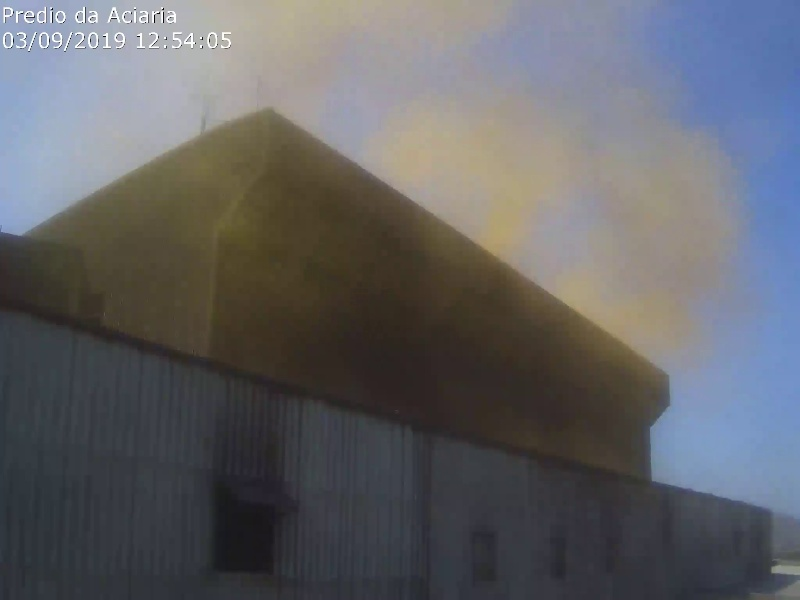pessimo: (78, 7, 730, 403)
